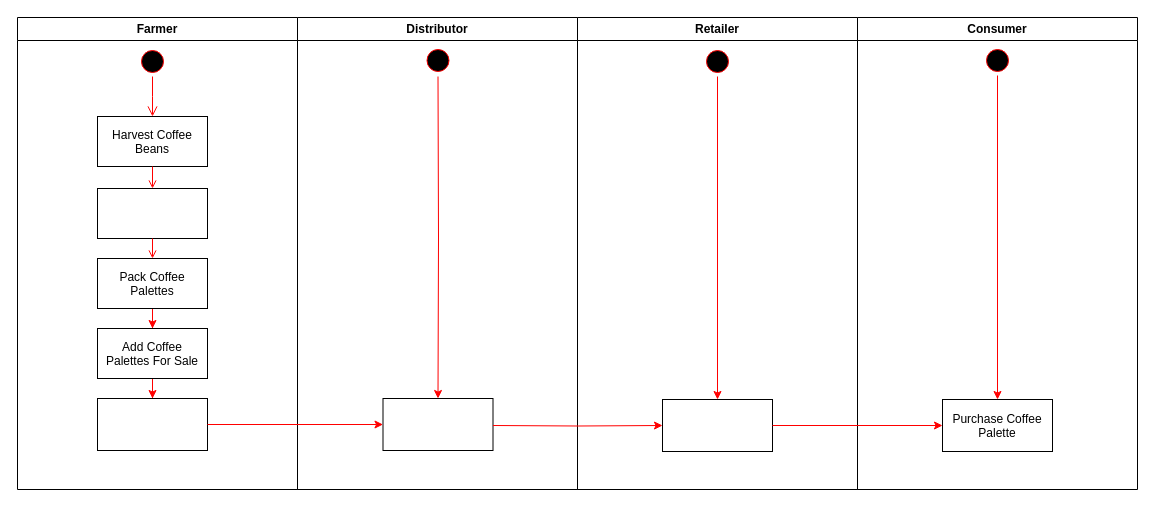
Image size: 1155x507. Some labels were removed from this diagram. Each missing label, with the centre of its shape:
"Buy Coffee Palette" goes at (x=437, y=424).
"Process Coffee Beans" goes at (x=152, y=213).
"Receive Coffee Palette" goes at (x=717, y=425).
"Ship Coffee Palette" goes at (x=152, y=424).
